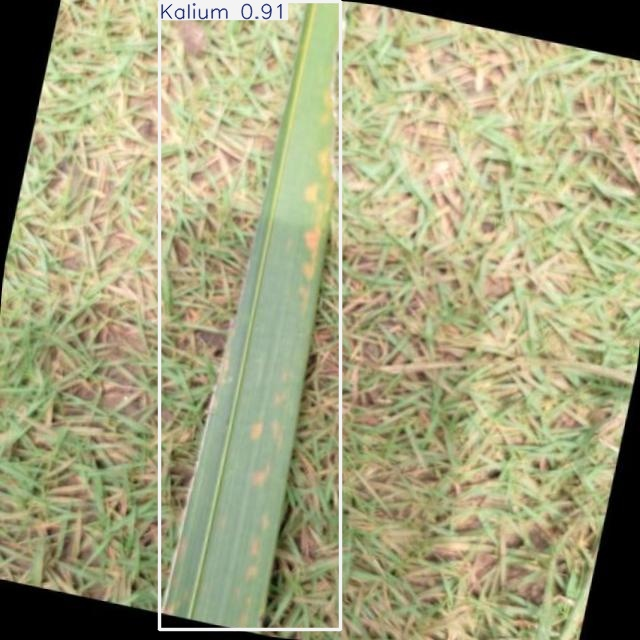Kalium: (159, 1, 341, 630)
